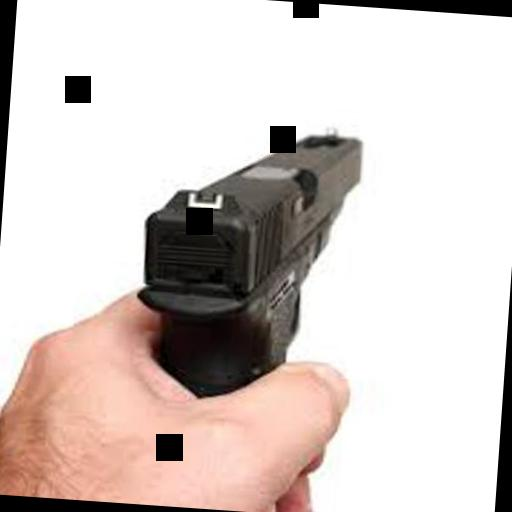Handgun: (122, 88, 366, 402)
